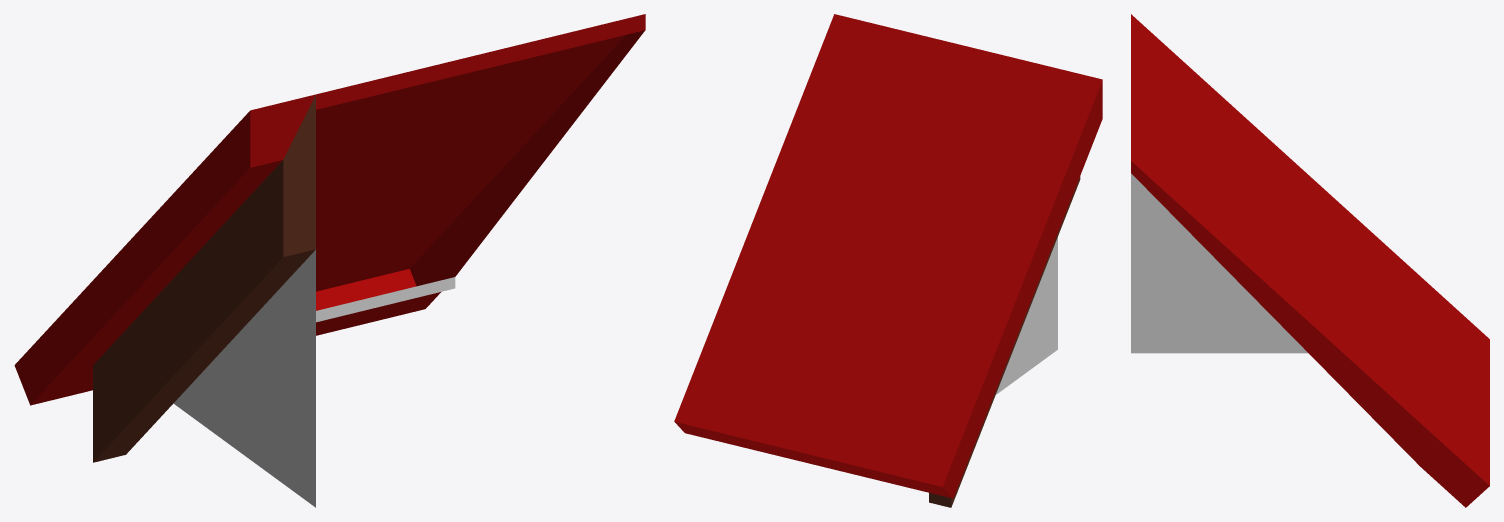
Rendered from Roof_Edge.fbx.
3 views of the same model, side by side, from view 1: azimuth 30°, elevation 25°; view 2: azimuth 150°, elevation 25°; view 3: azimuth 270°, elevation 25° (orthographic). The views are drawn at different scales.
Visible parts, largest first — view 1: Roof_Edge; view 2: Roof_Edge; view 3: Roof_Edge.
Part boxes in pixels (box(x1,y1,x2,y2)): Roof_Edge: box(14, 14, 645, 507); Roof_Edge: box(674, 14, 1102, 507); Roof_Edge: box(1131, 14, 1489, 507).
Bounding box in the file's own units: 0.012 × 0.0145 × 0.0124.
